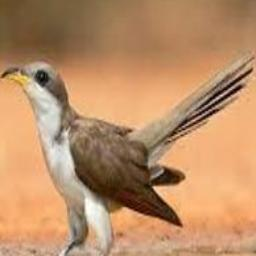Cuckoo: (0, 47, 255, 256)
